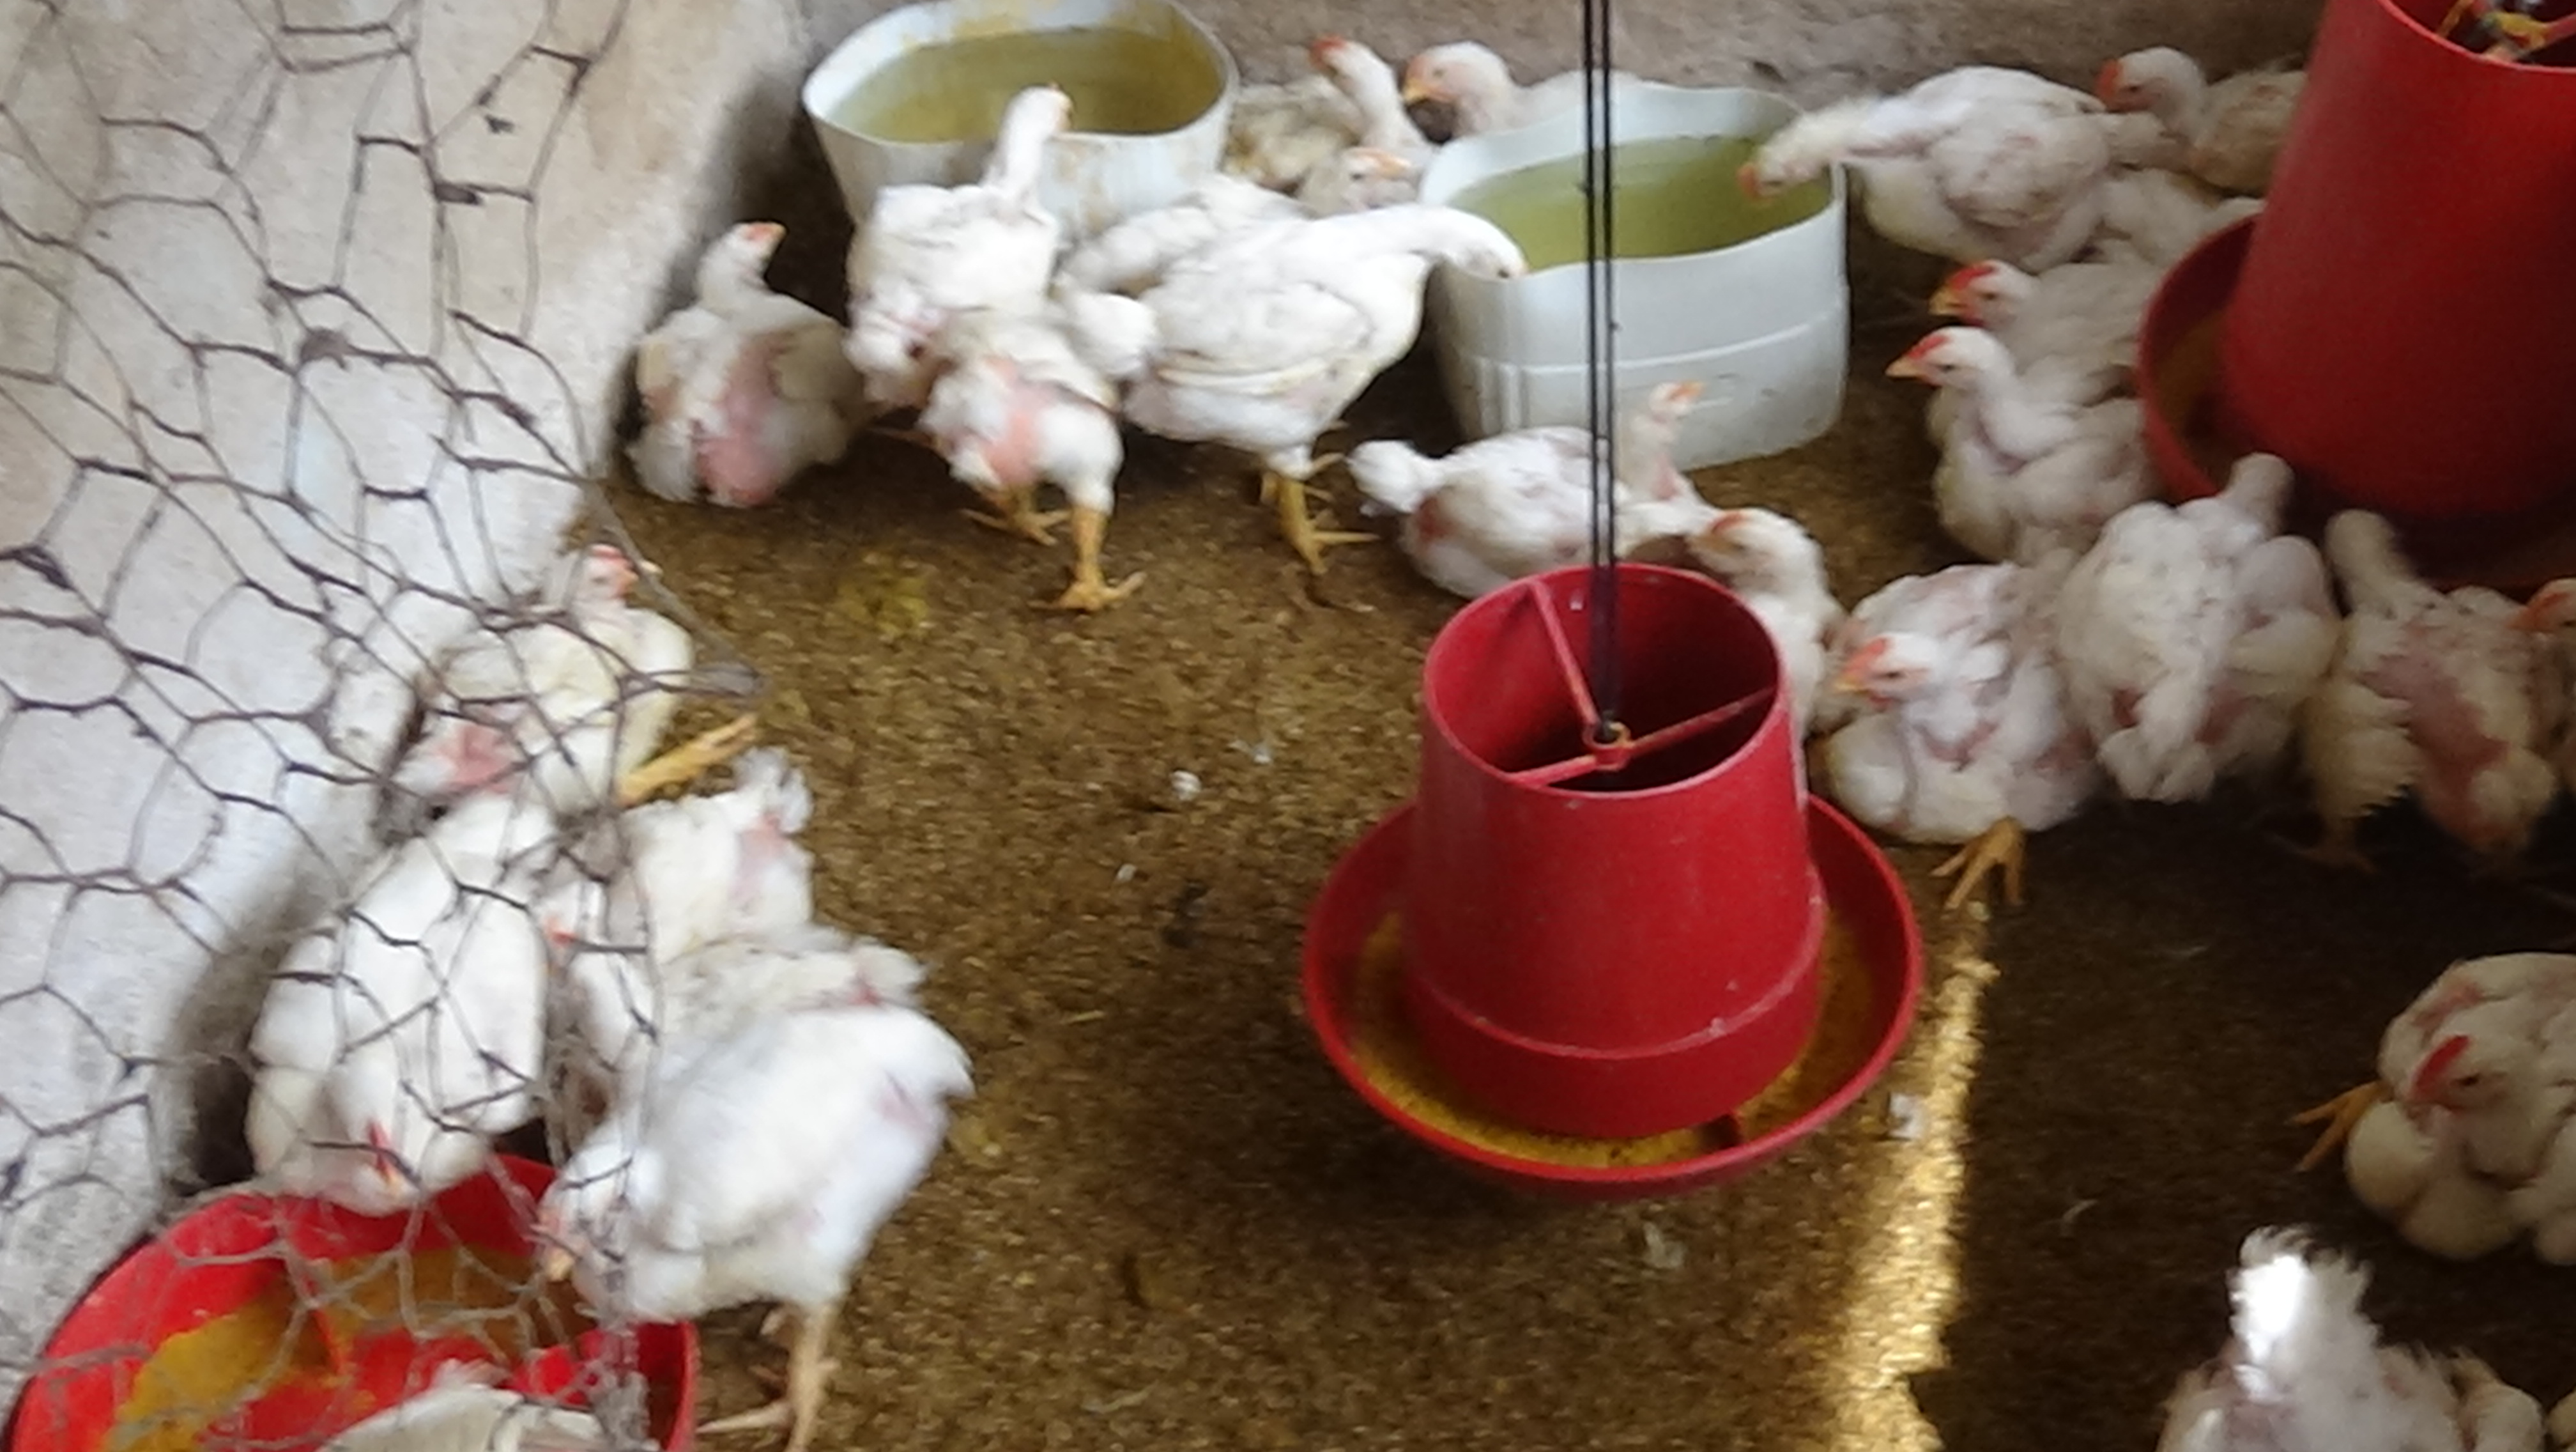Pollos: (557, 887, 978, 1452), (1115, 195, 1534, 581), (244, 786, 596, 1225), (389, 522, 757, 845), (1833, 540, 2114, 942), (2291, 483, 2576, 866), (2288, 884, 2576, 1261), (1325, 374, 1753, 625), (851, 55, 1122, 423), (931, 262, 1164, 653), (2084, 446, 2339, 799), (559, 744, 839, 1048), (587, 200, 839, 519), (1723, 57, 2123, 255), (1872, 301, 2151, 577), (1362, 25, 1732, 142), (2084, 18, 2318, 200), (1677, 489, 1842, 744), (1939, 243, 2157, 388), (1277, 18, 1422, 152)
